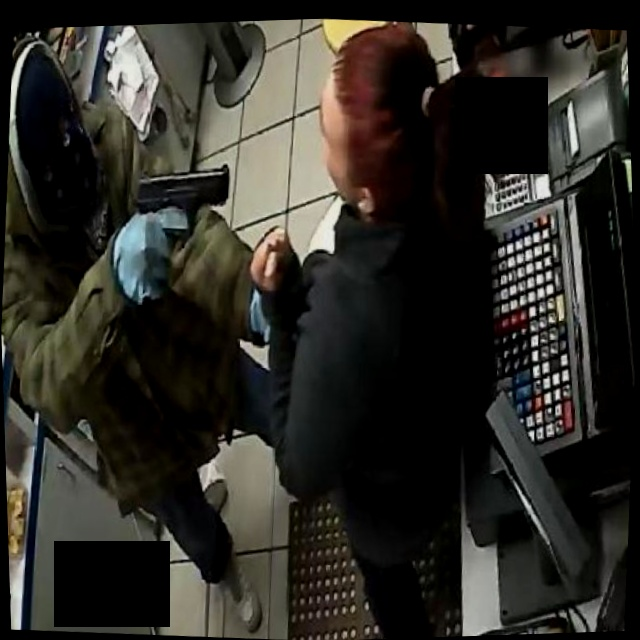gun: (118, 156, 242, 315)
